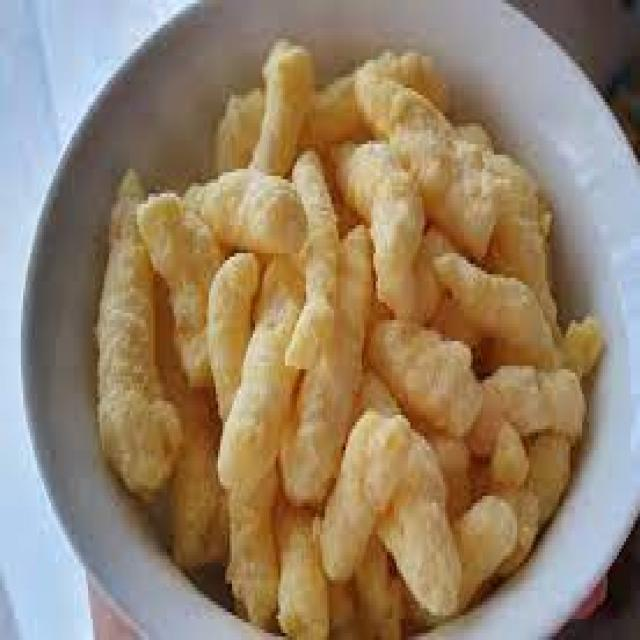Chips packaged: (114, 85, 580, 595)
